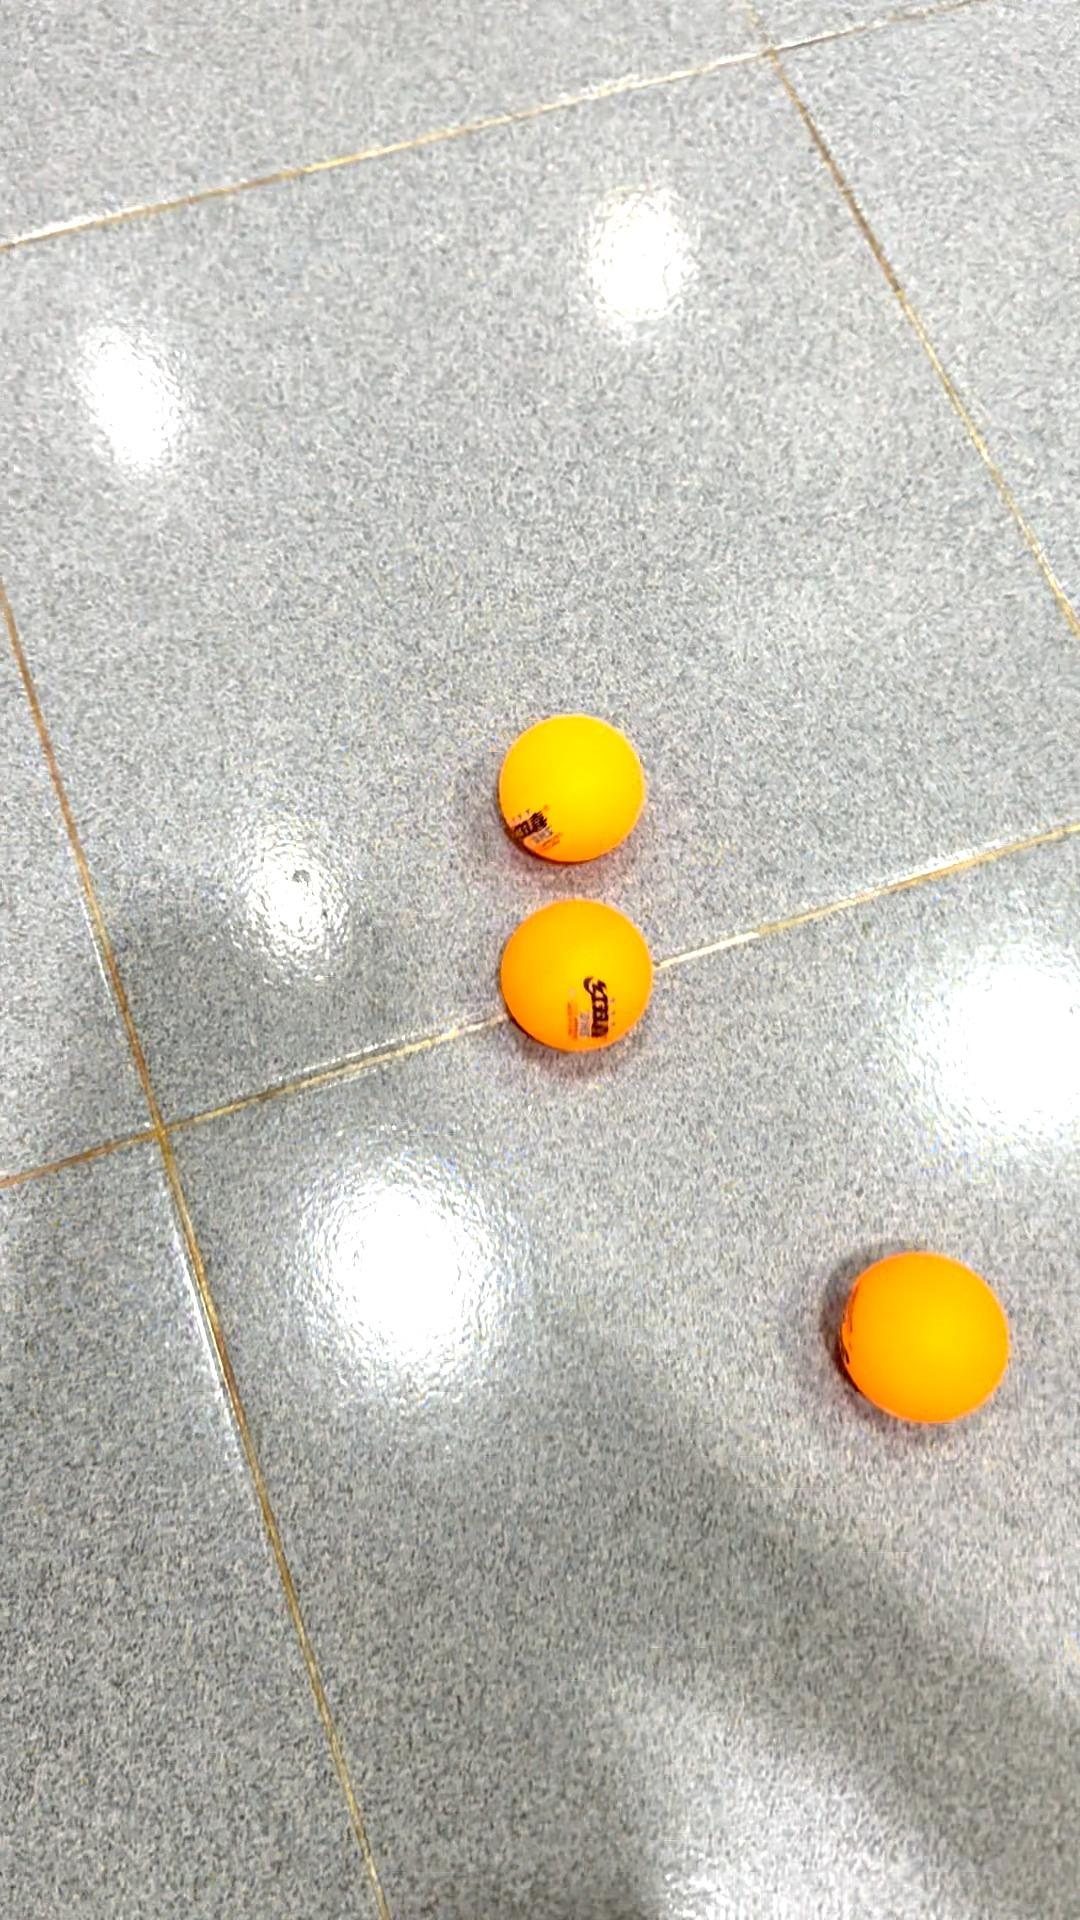oball: (835, 1247, 1026, 1435), (492, 890, 666, 1058), (497, 711, 655, 864)
